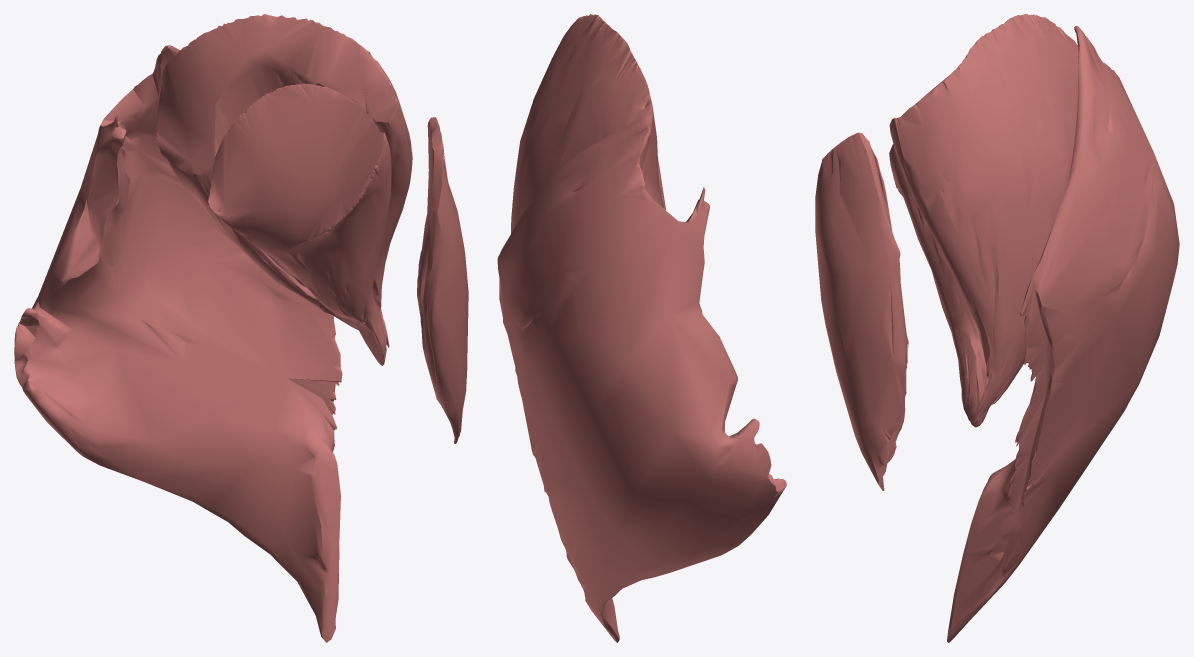
File: muscular-gluteal-left.glb
3 views of the same model, side by side, from view 1: azimuth 30°, elevation 25°; view 2: azimuth 150°, elevation 25°; view 3: azimuth 270°, elevation 25° (orthographic). The views are drawn at different scales.
Parts seen in each view (by area): view 1: bp3d_FMA22329_FJ1418M, bp3d_FMA22333_FJ1420M, bp3d_FMA22331_FJ1419M, bp3d_FMA22426_FJ1438M; view 2: bp3d_FMA22329_FJ1418M, bp3d_FMA22331_FJ1419M; view 3: bp3d_FMA22329_FJ1418M, bp3d_FMA22331_FJ1419M, bp3d_FMA22426_FJ1438M, bp3d_FMA22333_FJ1420M.
Boxes of the visible parts, x1=… form: bp3d_FMA22329_FJ1418M: x1=14, y1=45, x2=342, y2=642; bp3d_FMA22333_FJ1420M: x1=208, y1=83, x2=391, y2=365; bp3d_FMA22331_FJ1419M: x1=156, y1=14, x2=412, y2=347; bp3d_FMA22426_FJ1438M: x1=417, y1=117, x2=468, y2=443; bp3d_FMA22329_FJ1418M: x1=497, y1=115, x2=786, y2=642; bp3d_FMA22331_FJ1419M: x1=511, y1=14, x2=663, y2=233; bp3d_FMA22329_FJ1418M: x1=947, y1=26, x2=1179, y2=642; bp3d_FMA22331_FJ1419M: x1=889, y1=14, x2=1078, y2=416; bp3d_FMA22426_FJ1438M: x1=815, y1=132, x2=908, y2=490; bp3d_FMA22333_FJ1420M: x1=889, y1=144, x2=988, y2=427.
Size of the model in its own units: 0.1616 by 0.2832 by 0.1532.
